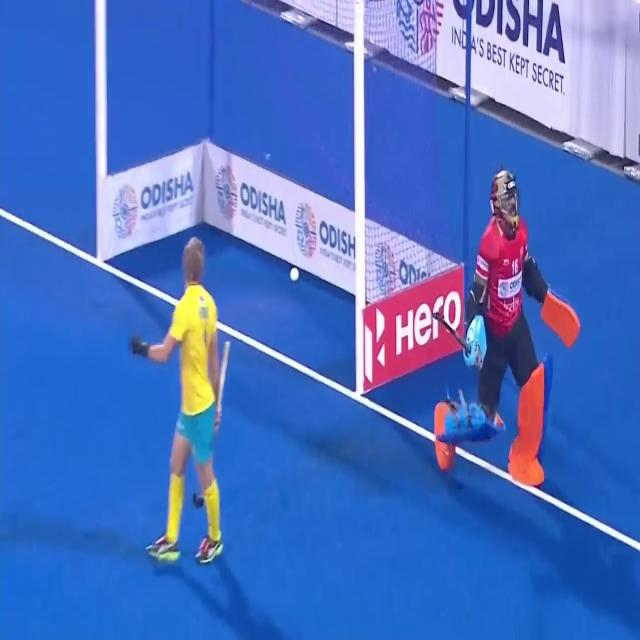ball: (285, 255, 306, 294)
